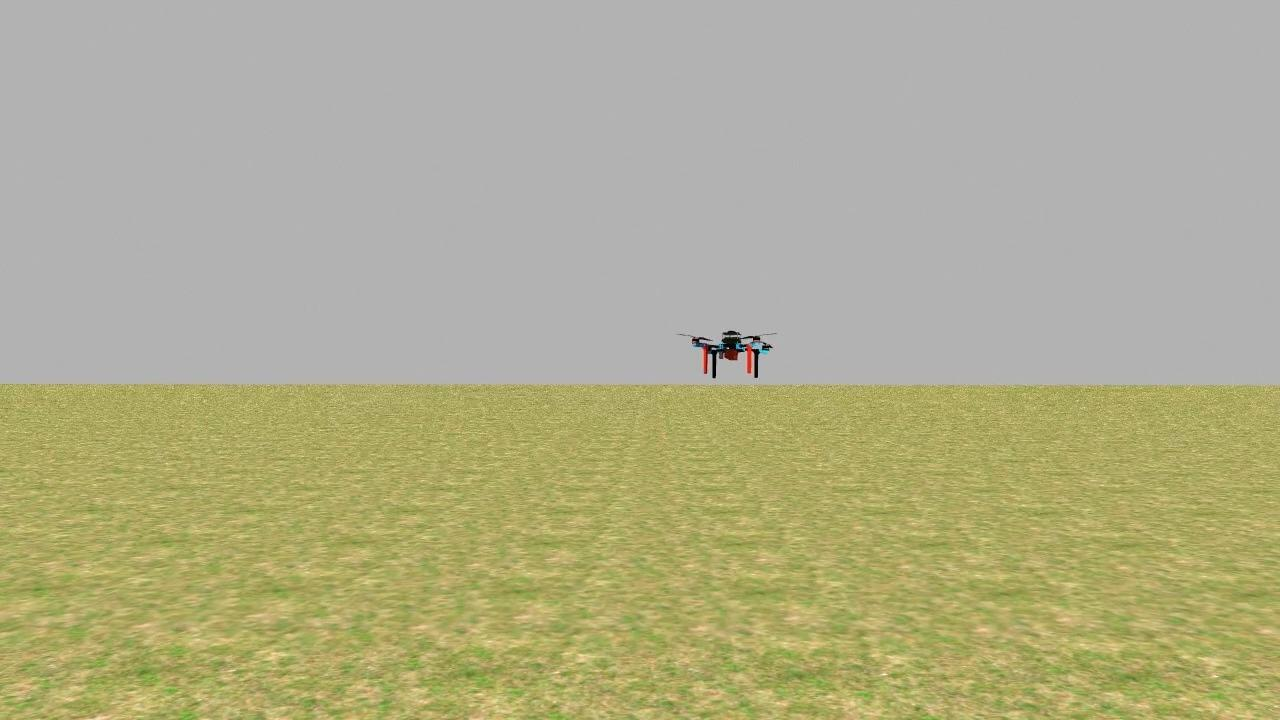UAV: (678, 311, 786, 386)
